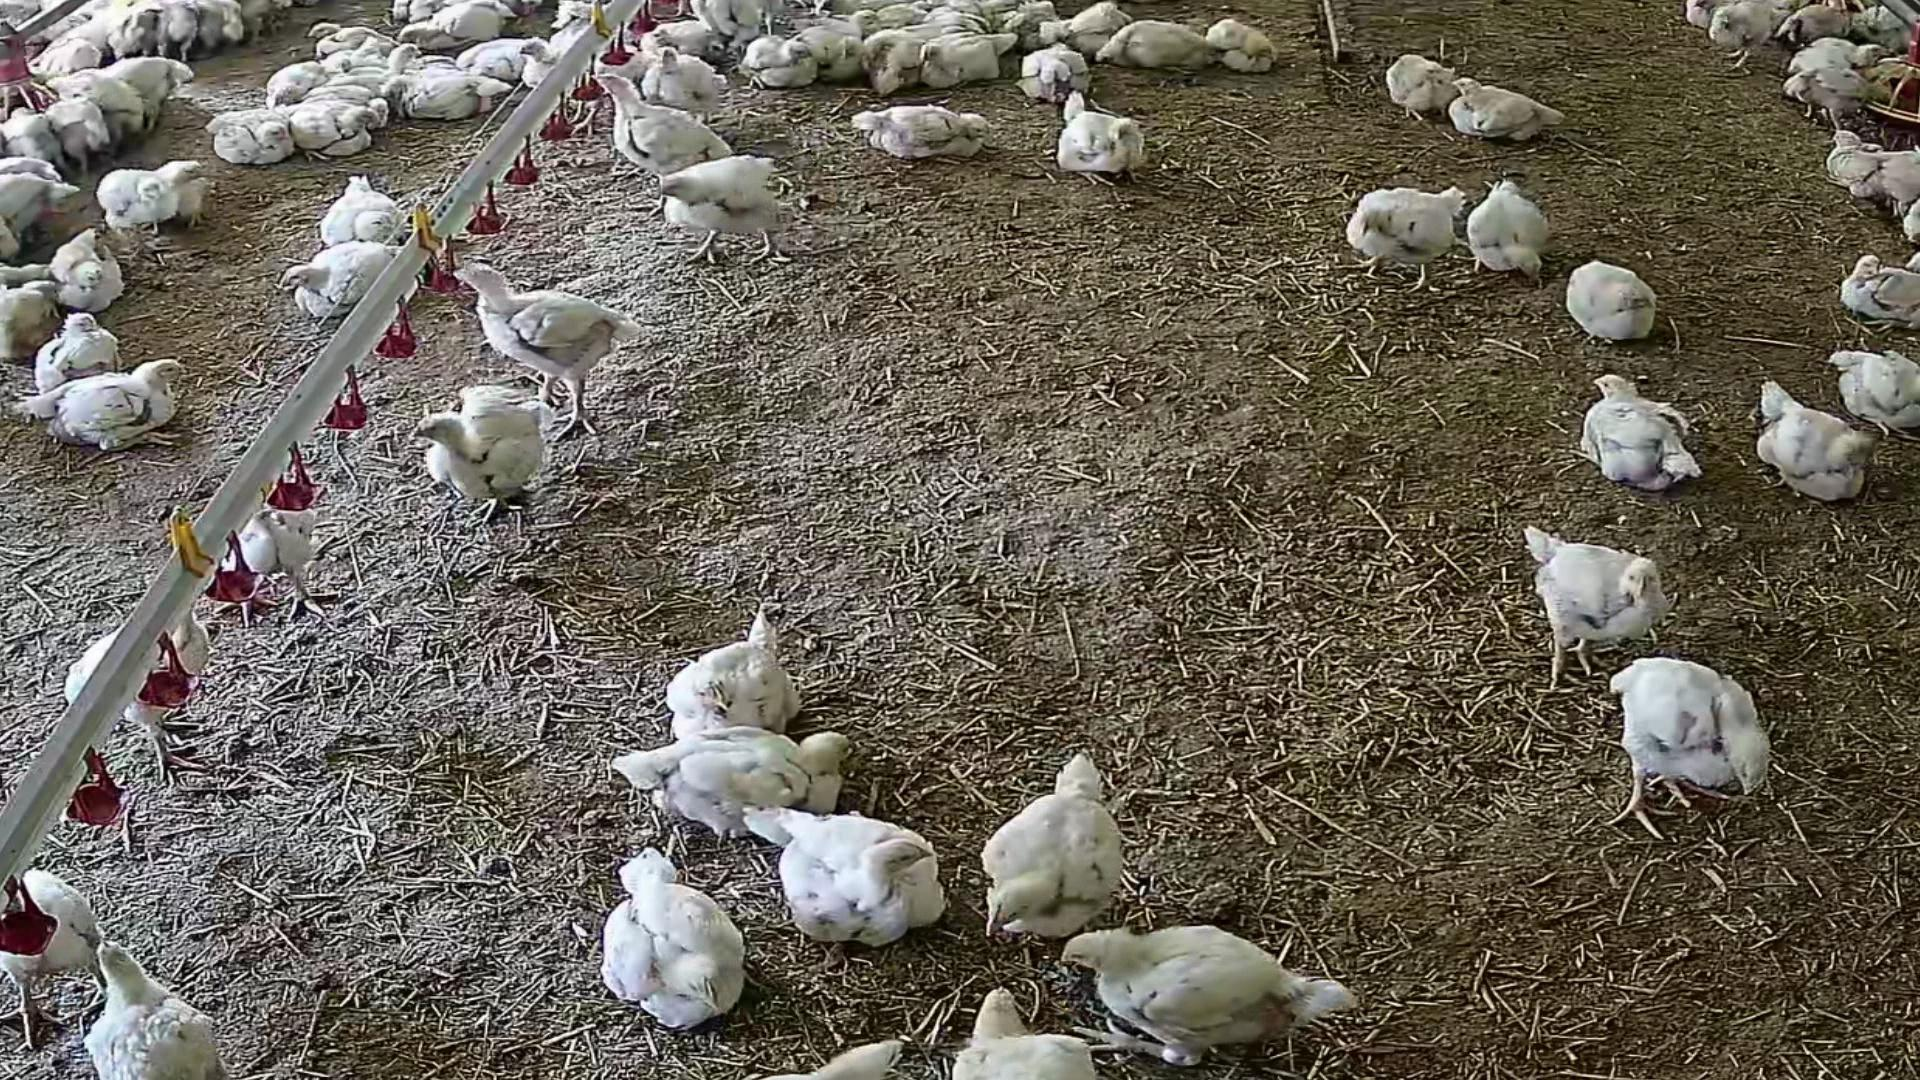poussin: (562, 827, 762, 1038), (1068, 920, 1367, 1056), (456, 266, 650, 454), (40, 612, 255, 775), (578, 723, 862, 828), (51, 930, 248, 1080), (1605, 654, 1760, 831), (996, 764, 1124, 956), (1520, 529, 1667, 688), (0, 829, 108, 1044), (189, 479, 345, 621), (390, 382, 553, 520), (785, 822, 948, 944), (32, 353, 202, 468), (670, 611, 808, 742), (589, 70, 728, 195), (934, 986, 1114, 1080), (655, 146, 791, 266), (1753, 389, 1874, 512), (1568, 378, 1698, 492), (272, 236, 429, 315), (1352, 182, 1455, 291), (654, 46, 738, 142), (20, 326, 124, 404), (42, 231, 137, 313), (1567, 258, 1662, 340), (316, 164, 410, 245), (1466, 181, 1545, 277), (1063, 94, 1142, 185), (857, 104, 988, 158), (1775, 70, 1890, 129), (789, 1030, 924, 1080), (1833, 344, 1920, 422), (393, 73, 512, 129), (100, 157, 218, 214), (1458, 70, 1556, 136), (42, 75, 157, 131), (0, 170, 82, 245), (1840, 253, 1920, 327), (203, 107, 301, 166), (137, 169, 214, 243), (1697, 0, 1771, 73), (1775, 42, 1892, 87), (924, 33, 1021, 87), (1098, 21, 1211, 66), (1386, 51, 1457, 120), (1840, 149, 1920, 210), (744, 33, 814, 95), (1212, 13, 1283, 73), (1022, 41, 1091, 102), (268, 111, 371, 150), (92, 54, 186, 95), (7, 103, 62, 170), (605, 29, 666, 88), (868, 26, 932, 80), (458, 34, 535, 76), (1815, 132, 1884, 178), (1056, 4, 1135, 44), (520, 36, 571, 96), (345, 41, 423, 80), (306, 21, 402, 51), (1788, 4, 1841, 54), (262, 69, 334, 104), (195, 0, 239, 57), (115, 5, 162, 57), (162, 0, 198, 63), (803, 12, 884, 38), (299, 94, 393, 115), (922, 11, 994, 33), (1676, 0, 1726, 32), (1891, 206, 1920, 247)
